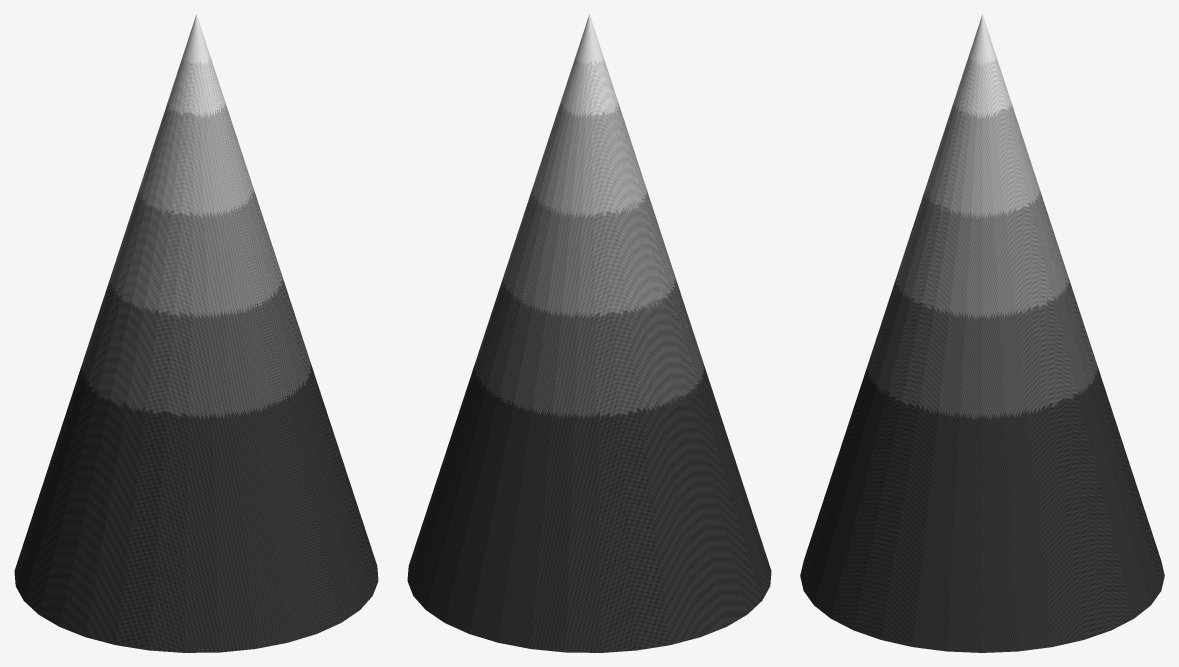
The model's file is Light.fbx.
3 views of the same model, side by side, from view 1: azimuth 30°, elevation 25°; view 2: azimuth 150°, elevation 25°; view 3: azimuth 270°, elevation 25° (orthographic).
Parts seen in each view (by area): view 1: Конус; view 2: Конус; view 3: Конус.
Part boxes in pixels (x1,y1,x2,y2): Конус: [14, 14, 378, 652]; Конус: [407, 14, 771, 652]; Конус: [800, 14, 1164, 652].
Bounding box in the file's own units: 300 × 510 × 300.
